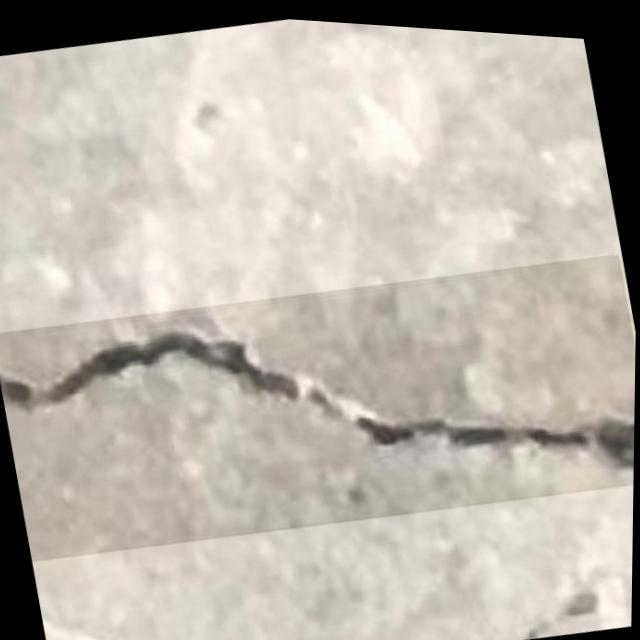Crack: (0, 219, 637, 597)
